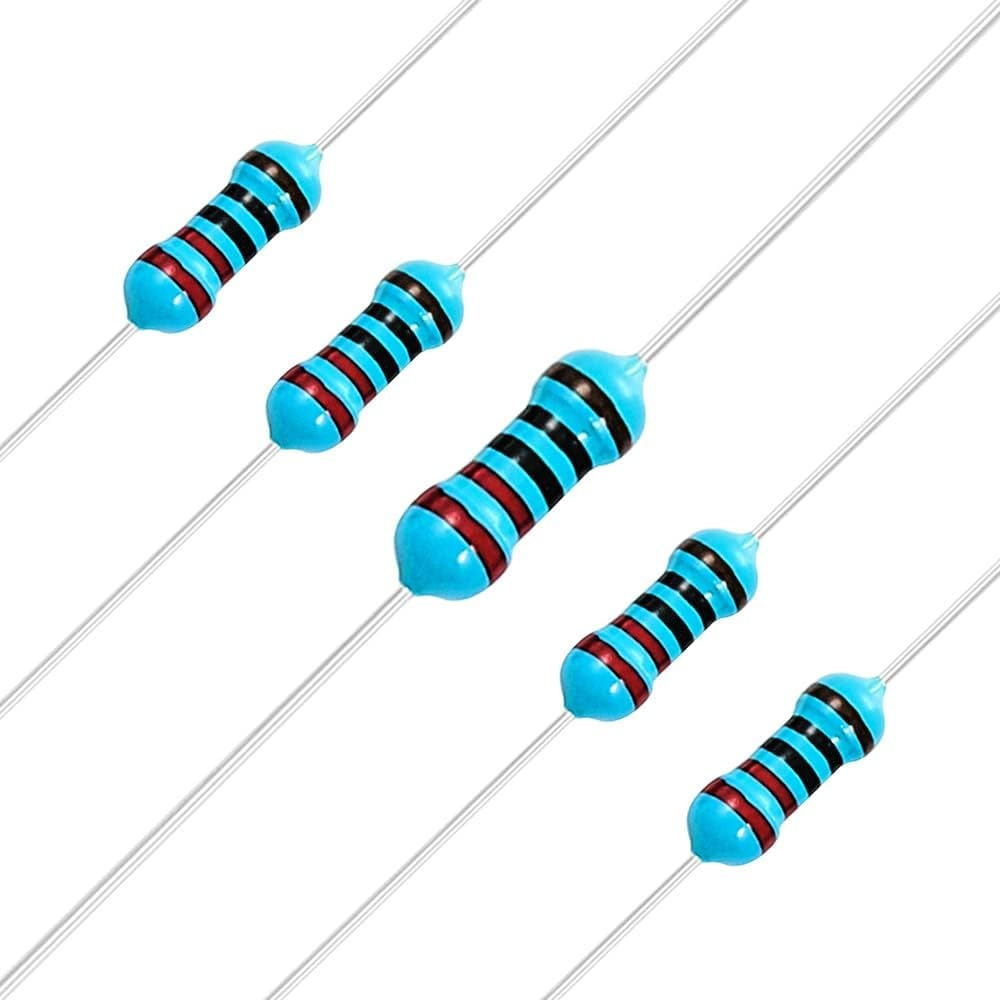resistor: (332, 301, 703, 652), (516, 489, 803, 761), (645, 628, 932, 900), (84, 103, 364, 369), (231, 220, 511, 486)
